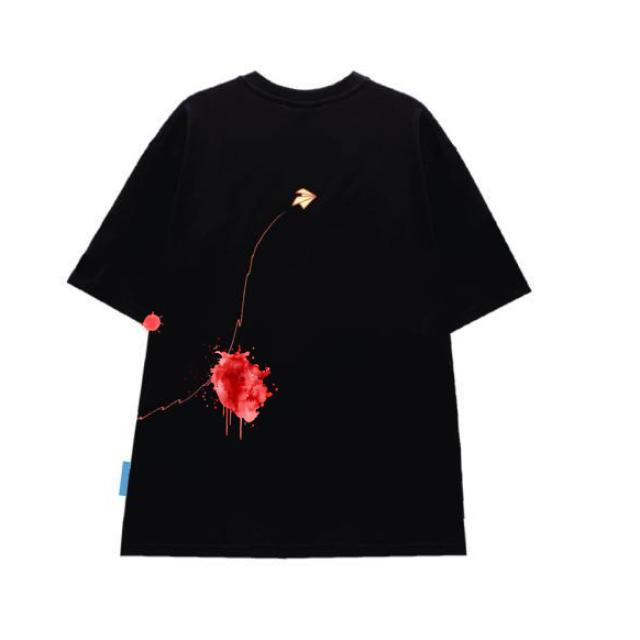stain: (207, 341, 276, 438), (140, 308, 168, 342)
